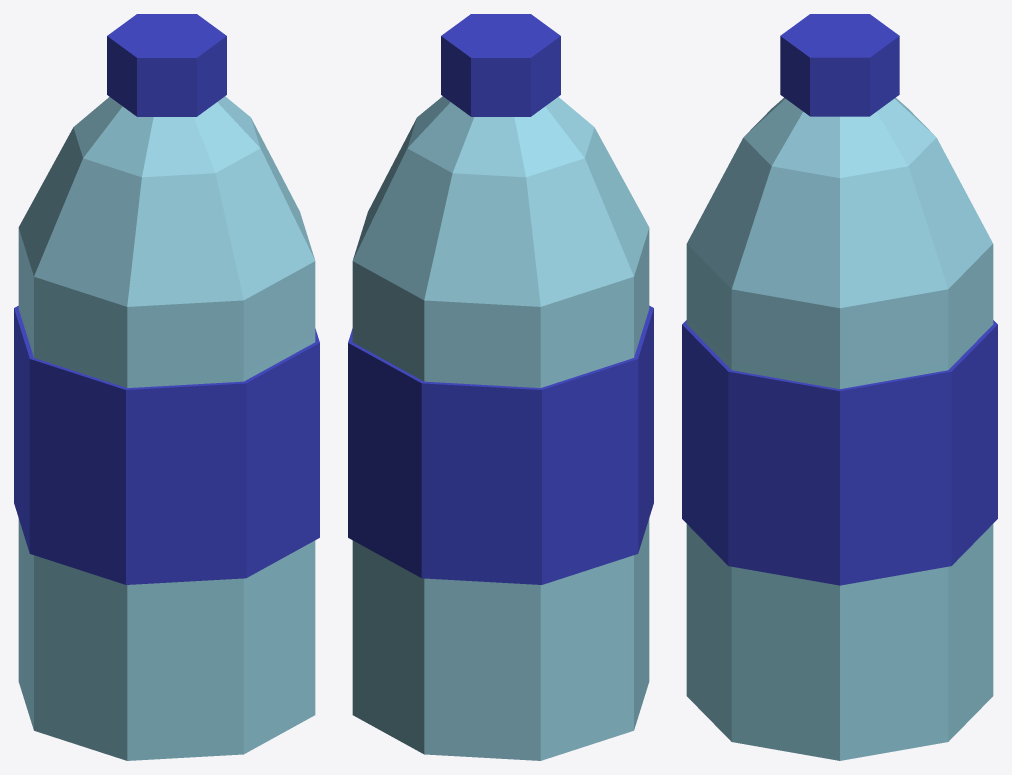
File: Unitybottle.fbx
The picture shows the model from 3 angles, left to right: view 1: azimuth 30°, elevation 25°; view 2: azimuth 150°, elevation 25°; view 3: azimuth 270°, elevation 25°; orthographic projection.
Parts seen in each view (by area): view 1: Cylinder.002; view 2: Cylinder.002; view 3: Cylinder.002.
Boxes of the visible parts, x1,y1,x2,y2 form: Cylinder.002: (14, 14, 319, 760); Cylinder.002: (348, 14, 653, 760); Cylinder.002: (682, 14, 997, 760).
Size of the model in its own units: 206 by 476 by 206.
